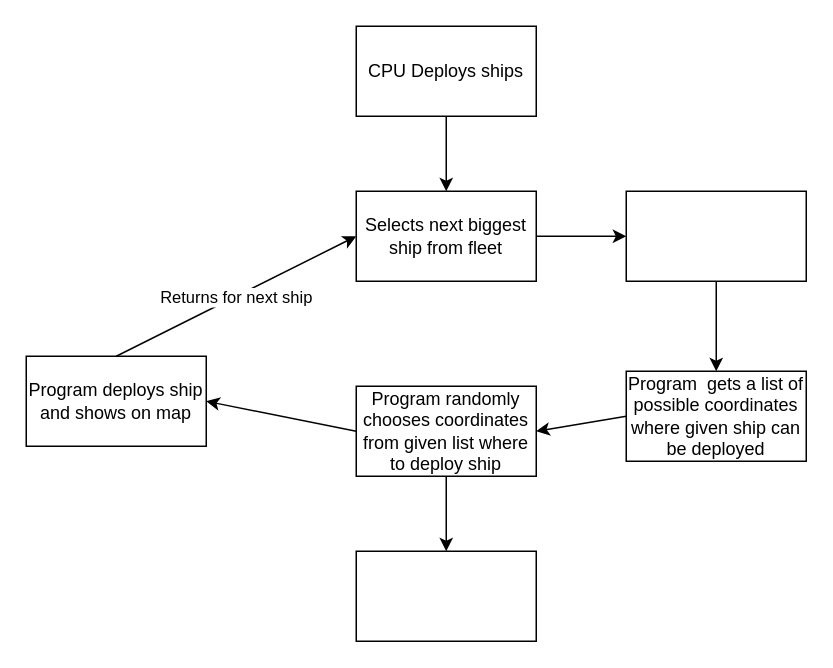
This 833x668 diagram has some shape labels left out. The shapes that lost their labels are listed below. From the top down, each one's box as (x1, y1, x2, y2) in pixels, then its label:
(625, 190, 806, 281): Randomly chooses Horizontal or Vertical Alignment
(355, 550, 536, 641): All ships Are deployed, game starts
